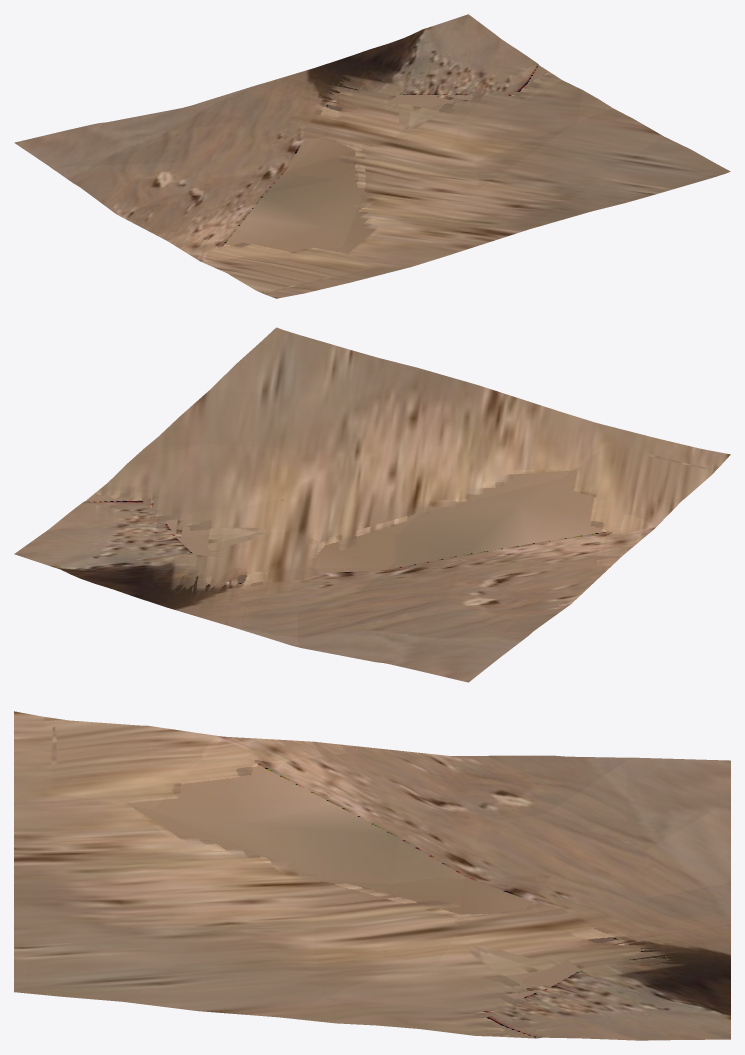
3 views of the same model, one above another, from view 1: azimuth 30°, elevation 25°; view 2: azimuth 150°, elevation 25°; view 3: azimuth 270°, elevation 25° (orthographic). The views are drawn at different scales.
Size of the model in its own units: 1.04 by 0.1285 by 1.04.
3 materials, 3 textured.
